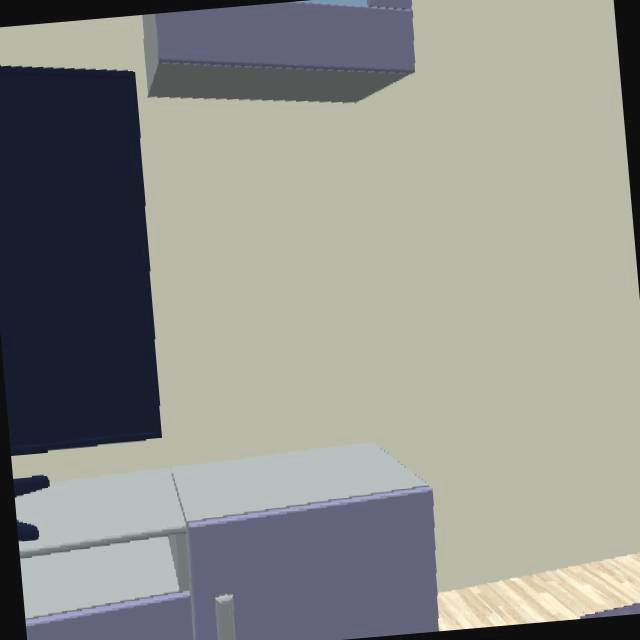cabinet: (15, 443, 437, 640), (143, 0, 415, 100)
monitor: (0, 67, 161, 453), (14, 476, 49, 495), (17, 521, 38, 540)
